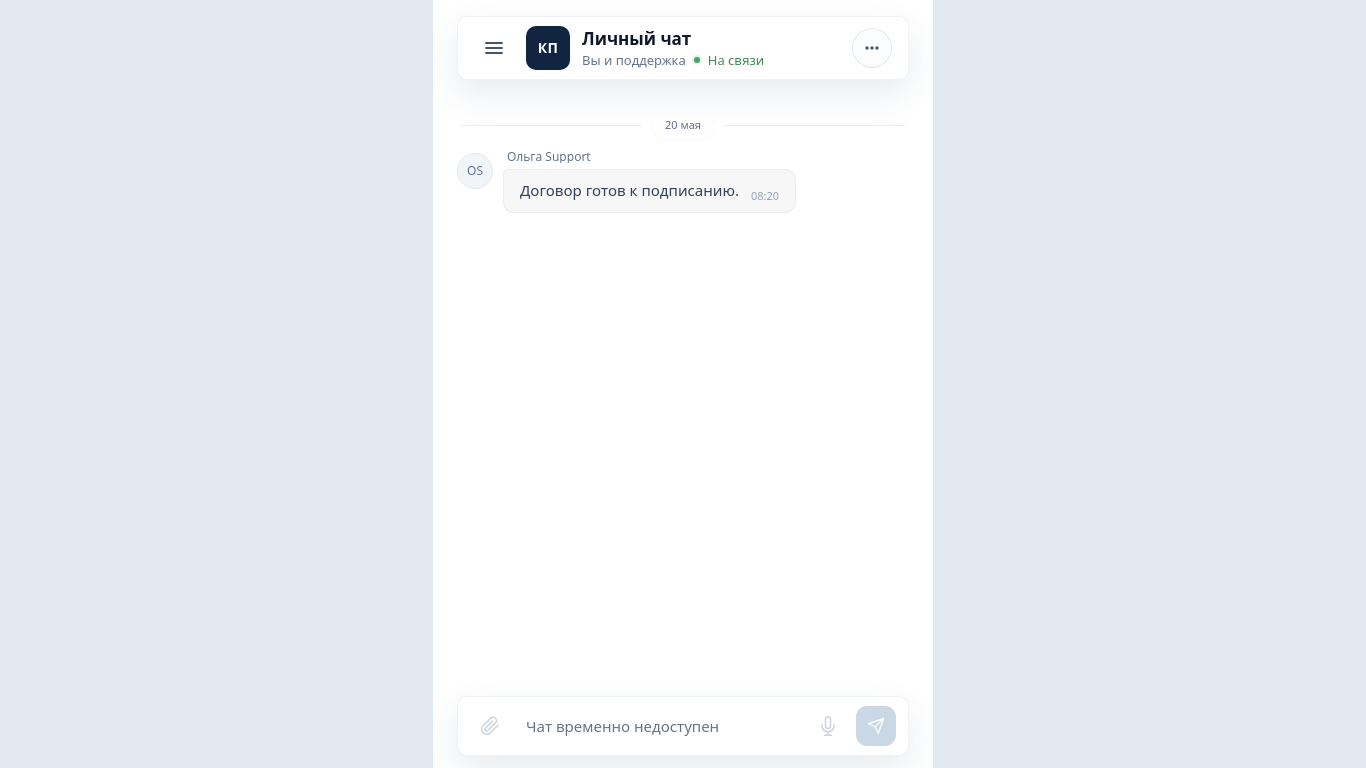
Test: ChatPage search panel › opens search from the chat menu and highlights a loaded transcript message
Expected: the text "Договор готов к подписанию." is shown, [520,180,739,200]
Click the button named "Открыть меню чата".
click(872, 48)  # box [852,28,892,68]
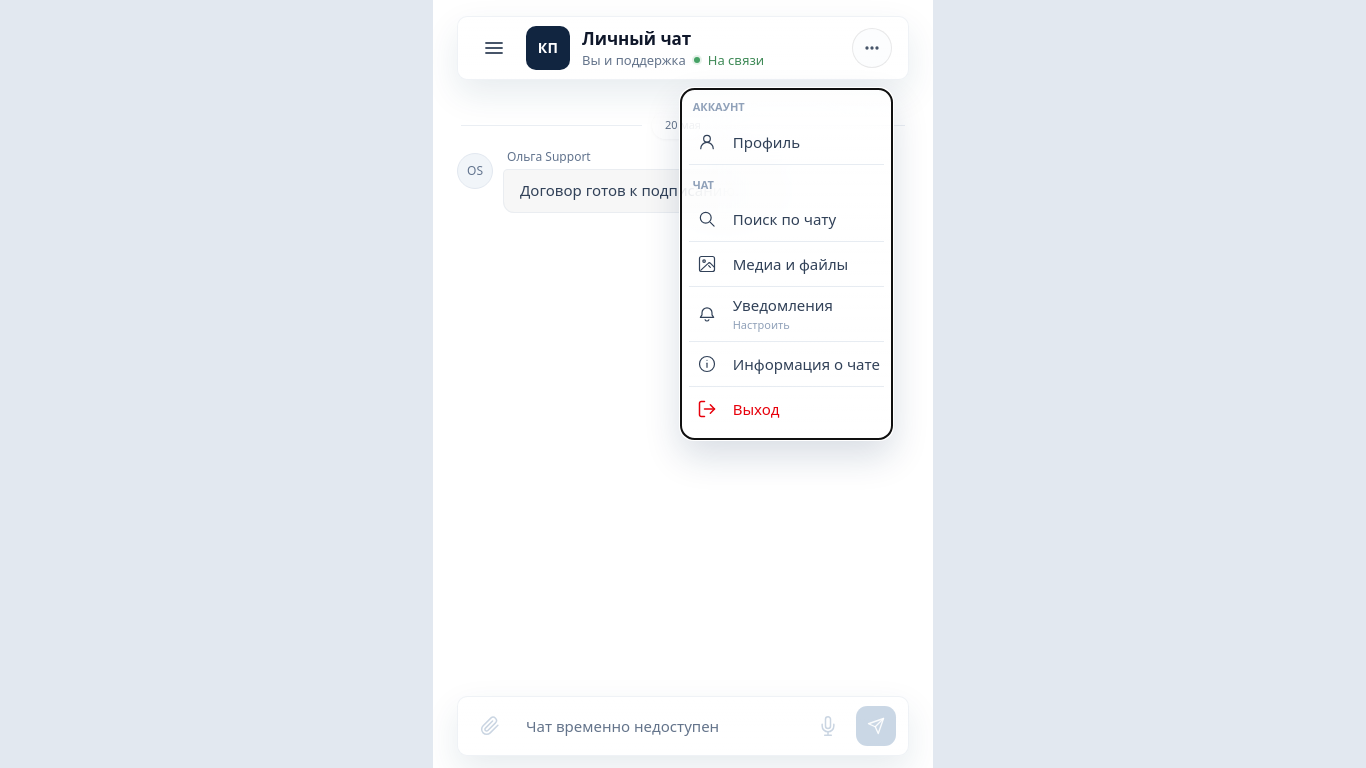
Click the menu item "Поиск по чату".
click(786, 220)  # box [689,197,884,242]
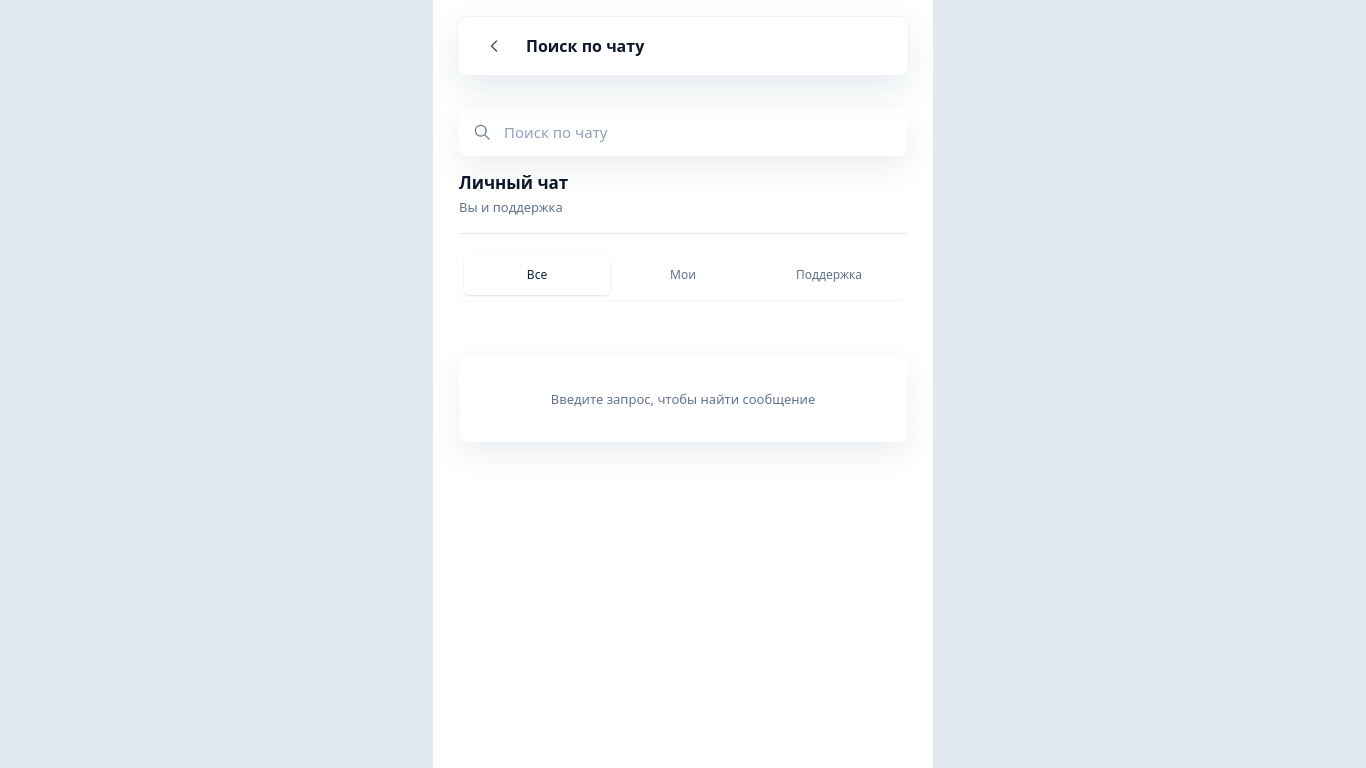
Expected: the heading "Поиск по чату" is shown, [526,35,644,57]
Type "договор" into the search field labelled "Поиск по чату".
click(699, 132); type("договор")  # box [504,110,894,154]
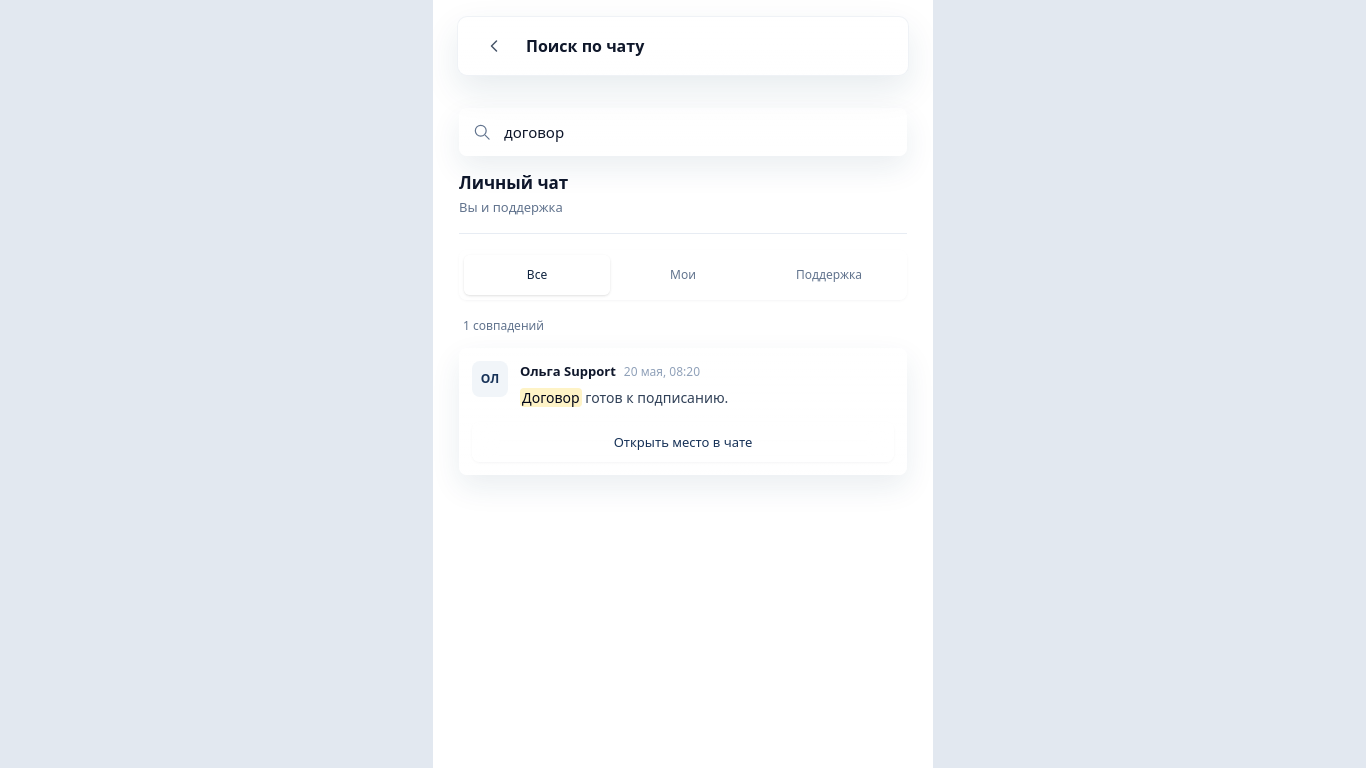
Expected: the button "Открыть место в чате" is shown
Click the button "Открыть место в чате".
click(683, 442)  # box [472,422,894,462]
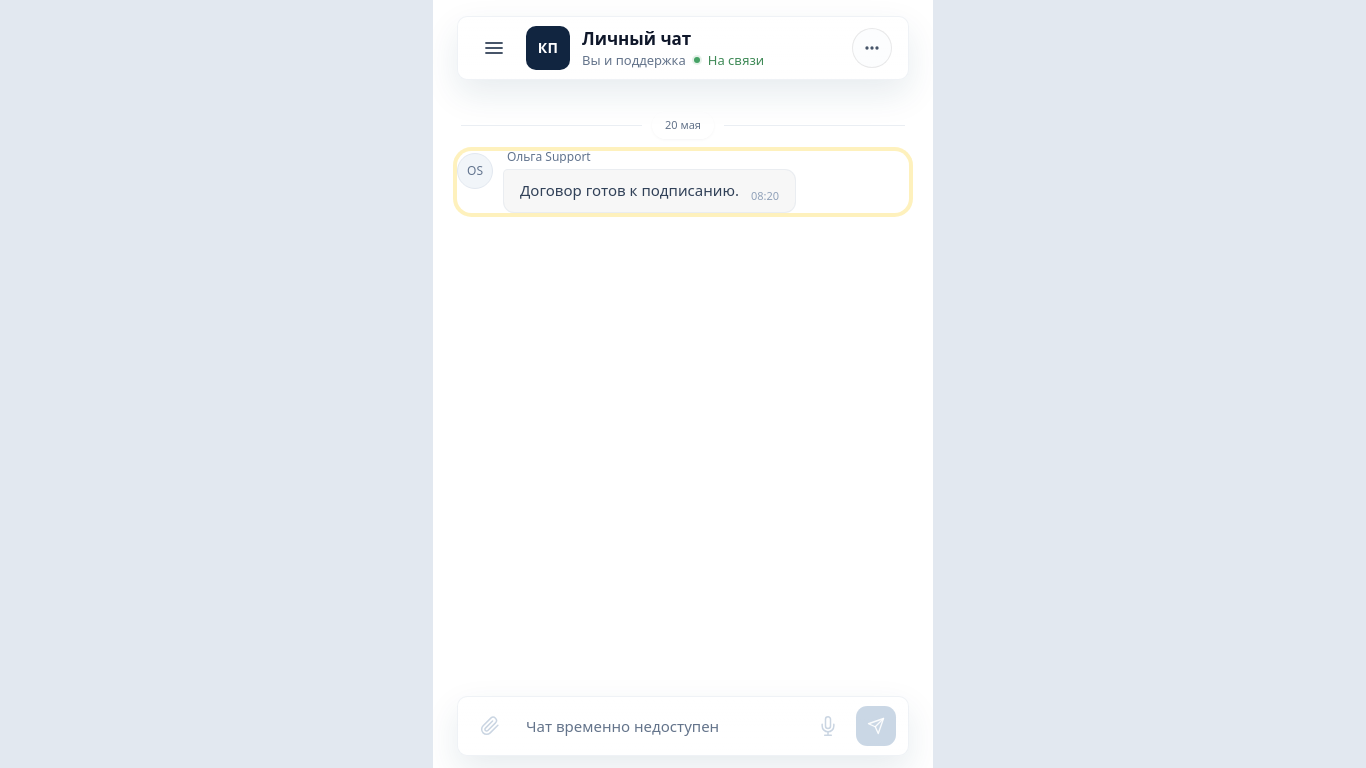
Expected: the element that starts with "Ольга Support" is shown, [457,150,909,213]
Expected: the heading "Поиск по чату" is gone
